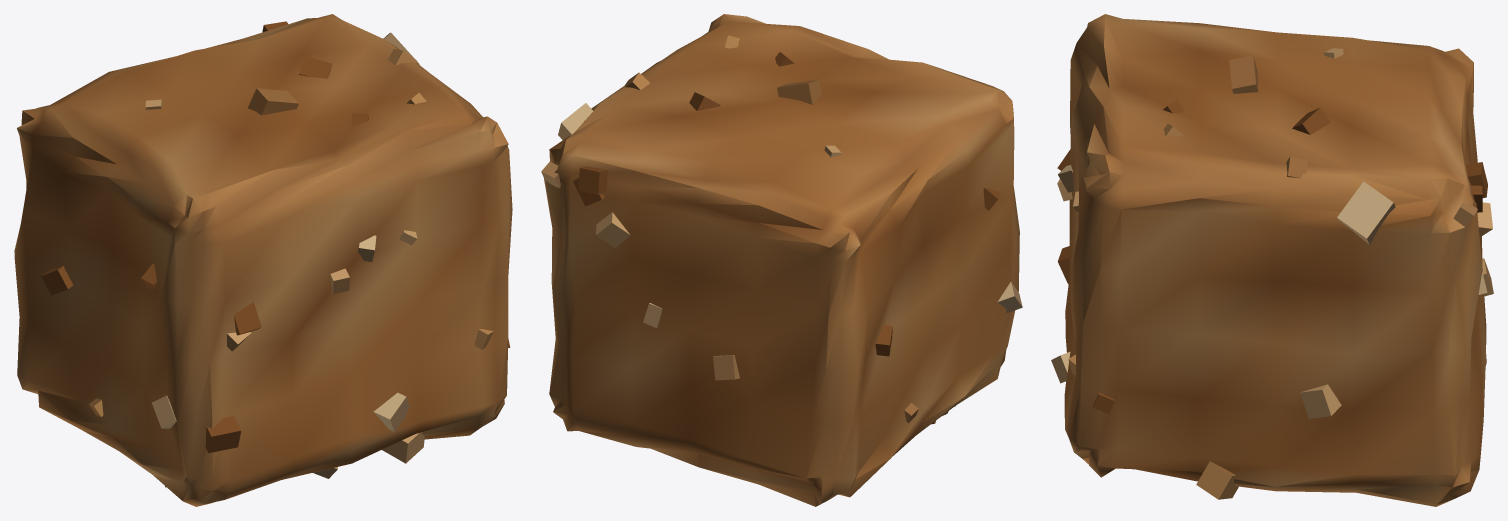
The model's file is cane_cube.glb.
3 renders of one model, left to right at view 1: azimuth 30°, elevation 25°; view 2: azimuth 150°, elevation 25°; view 3: azimuth 270°, elevation 25°, orthographic. The views are drawn at different scales.
Parts seen in each view (by area): view 1: cane_cube; view 2: cane_cube; view 3: cane_cube.
Part boxes in pixels (x1=…): cane_cube: x1=14, y1=14, x2=512, y2=506; cane_cube: x1=541, y1=14, x2=1022, y2=506; cane_cube: x1=1051, y1=14, x2=1493, y2=506.
Size of the model in its own units: 1 by 0.9209 by 0.9596.
